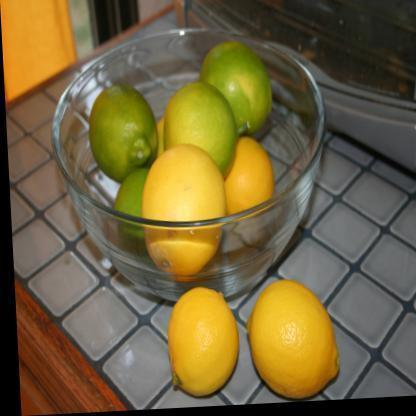lemon: (246, 280, 340, 400), (141, 142, 225, 276), (167, 286, 239, 398), (224, 135, 274, 215)
